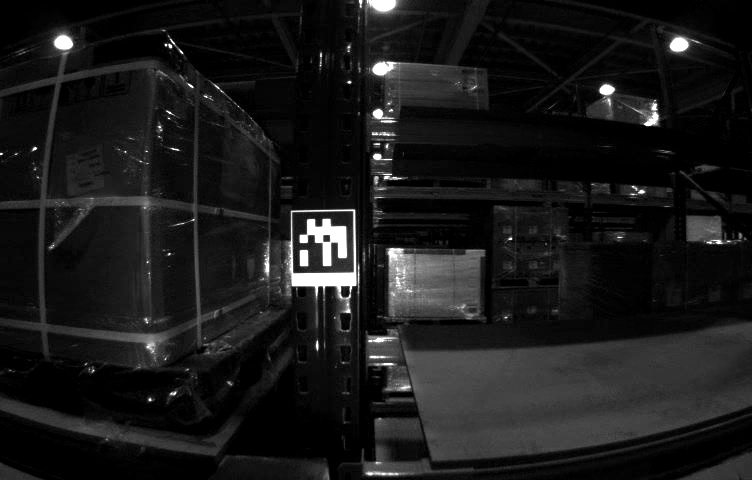True Barcode: (66, 144, 102, 196)
